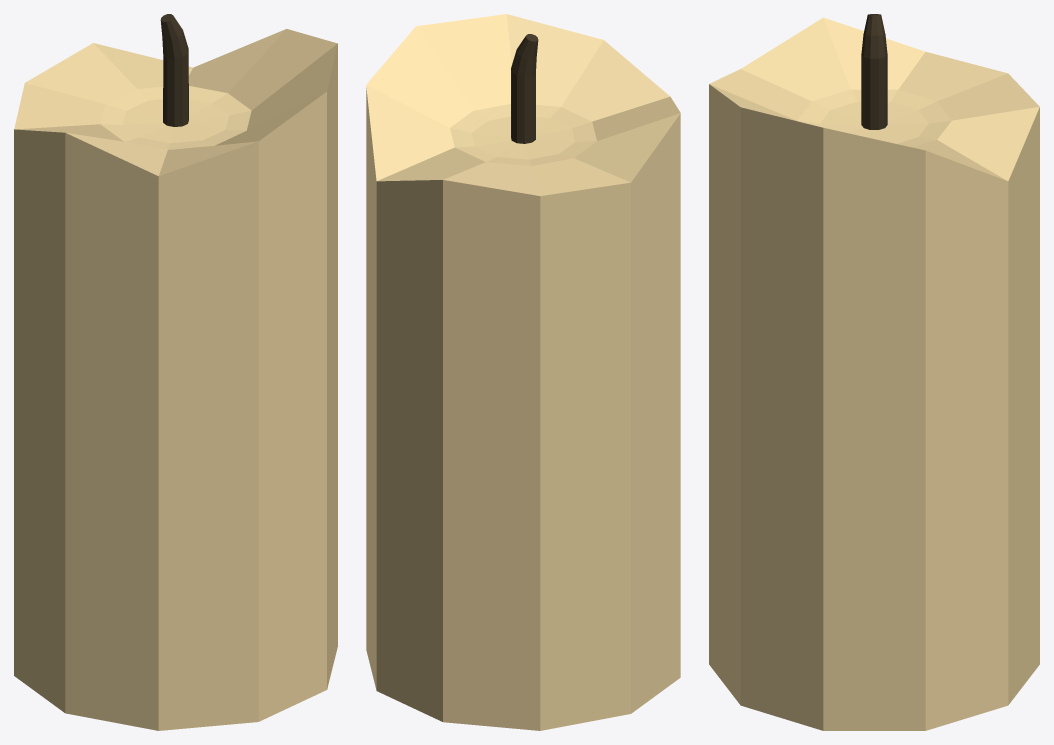
The model's file is Candle Separate.glb.
3 renders of one model, left to right at view 1: azimuth 30°, elevation 25°; view 2: azimuth 150°, elevation 25°; view 3: azimuth 270°, elevation 25°, orthographic. The views are drawn at different scales.
Visible parts, largest first — view 1: Cylinder.002; view 2: Cylinder.002; view 3: Cylinder.002.
Boxes of the visible parts, bbox=[...] form: Cylinder.002: bbox=[14, 14, 337, 730]; Cylinder.002: bbox=[366, 14, 680, 730]; Cylinder.002: bbox=[709, 14, 1039, 730].
Size of the model in its own units: 0.3016 by 0.6847 by 0.3171.
